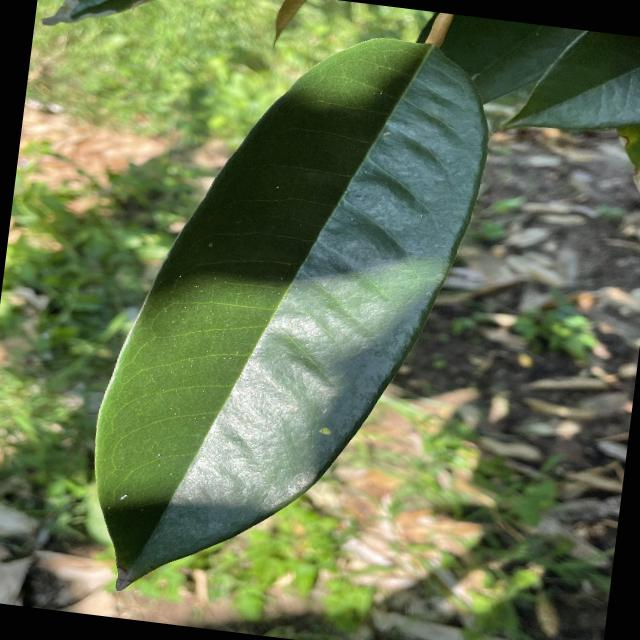No Disease: (67, 0, 507, 639)
